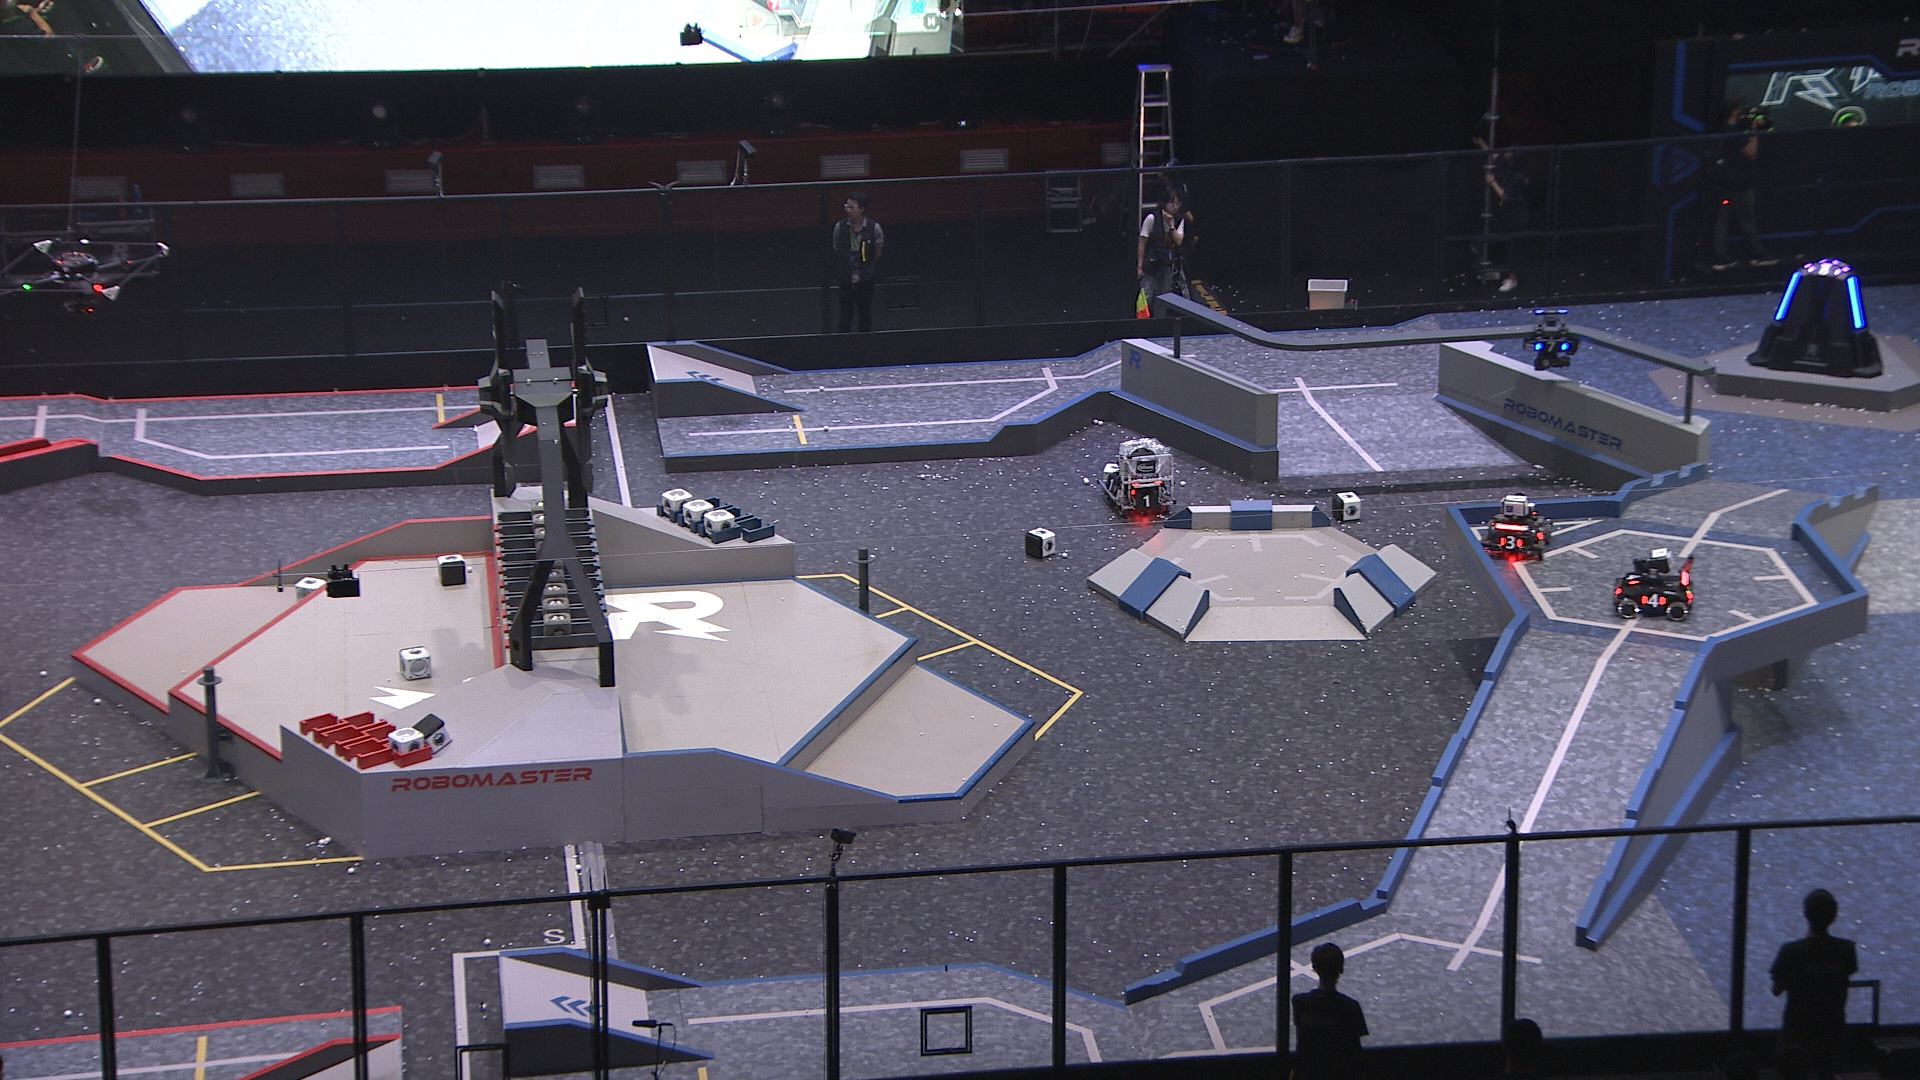armor: (1774, 272, 1799, 323), (1845, 277, 1869, 328), (1638, 589, 1669, 609), (1133, 491, 1159, 510), (1498, 533, 1522, 553), (1534, 342, 1571, 353), (1105, 475, 1120, 495), (1623, 571, 1642, 585)
base: (1745, 256, 1884, 381)
car: (1100, 436, 1178, 518), (1610, 549, 1695, 622), (1481, 489, 1555, 560)
ignore: (1807, 262, 1841, 277)
watcher: (1520, 309, 1580, 371)
